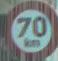Speed limit: (6, 3, 54, 54)
